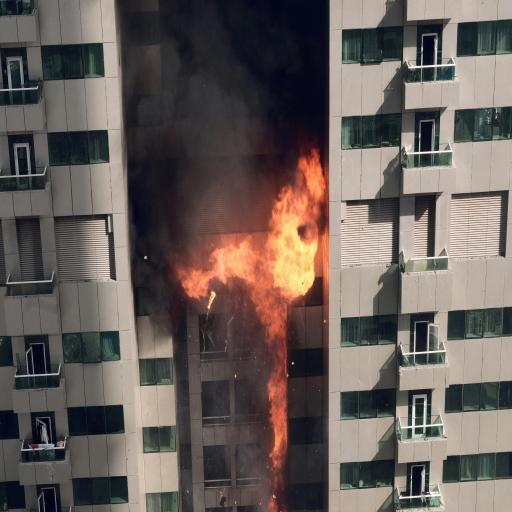buildingfire: (125, 36, 375, 512)
